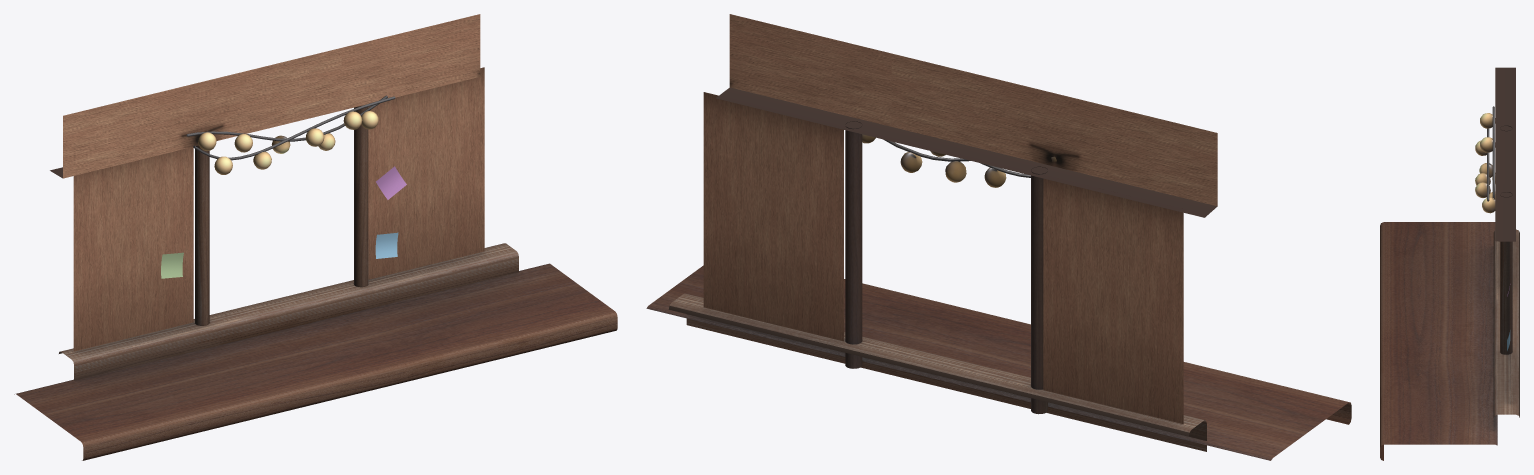
The model's file is interior_4.fbx.
3 renders of one model, left to right at view 1: azimuth 30°, elevation 25°; view 2: azimuth 150°, elevation 25°; view 3: azimuth 270°, elevation 25°, orthographic. The views are drawn at different scales.
Parts seen in each view (by area): view 1: Cube.028, Cube.030, Cube.027, Cube.029, Cylinder.007, Cylinder.010; view 2: Cube.030, Cube.027, Cube.028, Cube.029, Cylinder.007; view 3: Cube.028, Cube.027, Cube.029, Cylinder.007, Cylinder.011, Sphere.002, Sphere.001, Sphere.004, Sphere.008, Cylinder.010.
Boxes of the visible parts, <box> form: Cube.028: <box>14,263,617,460</box>; Cube.030: <box>73,67,484,351</box>; Cube.027: <box>50,14,480,178</box>; Cube.029: <box>59,243,518,380</box>; Cylinder.007: <box>195,105,368,325</box>; Cylinder.010: <box>193,96,395,160</box>; Cube.030: <box>703,92,1183,424</box>; Cube.027: <box>716,14,1217,217</box>; Cube.028: <box>646,265,1351,460</box>; Cube.029: <box>668,293,1206,451</box>; Cylinder.007: <box>845,121,1047,414</box>; Cube.028: <box>1380,222,1497,460</box>; Cube.027: <box>1495,67,1515,241</box>; Cube.029: <box>1493,229,1519,417</box>; Cylinder.007: <box>1500,125,1512,354</box>; Cylinder.011: <box>1492,106,1494,199</box>; Sphere.002: <box>1480,137,1495,152</box>; Sphere.001: <box>1480,113,1495,128</box>; Sphere.004: <box>1482,197,1495,213</box>; Sphere.008: <box>1475,182,1490,197</box>; Cylinder.010: <box>1487,128,1489,201</box>.
Bounding box in the file's own units: 5.44 × 2.78 × 1.45.
